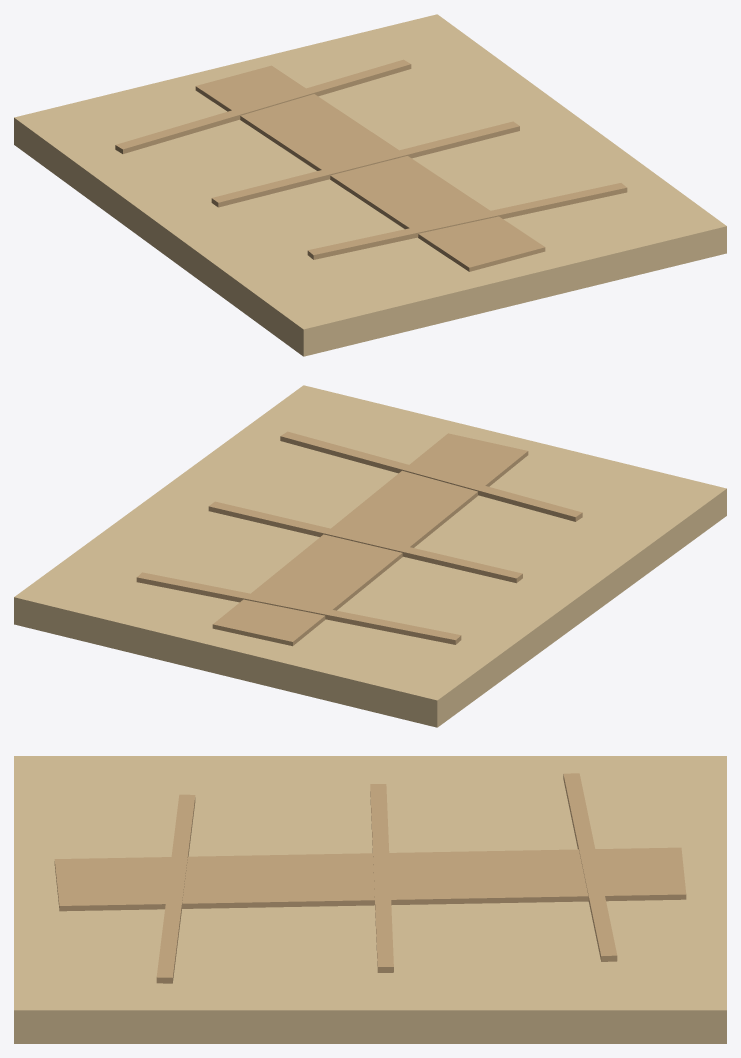
Rendered from track_sand_1lane.glb.
3 renders of one model, top to bottom at view 1: azimuth 30°, elevation 25°; view 2: azimuth 150°, elevation 25°; view 3: azimuth 270°, elevation 25°, orthographic. The views are drawn at different scales.
Parts seen in each view (by area): view 1: track_sand_1lane; view 2: track_sand_1lane; view 3: track_sand_1lane.
Part boxes in pixels (x1,y1,x2,y2): track_sand_1lane: (14,14,726,356); track_sand_1lane: (14,385,726,727); track_sand_1lane: (14,756,726,1043).
Size of the model in its own units: 2.6 by 0.197 by 3.08.
